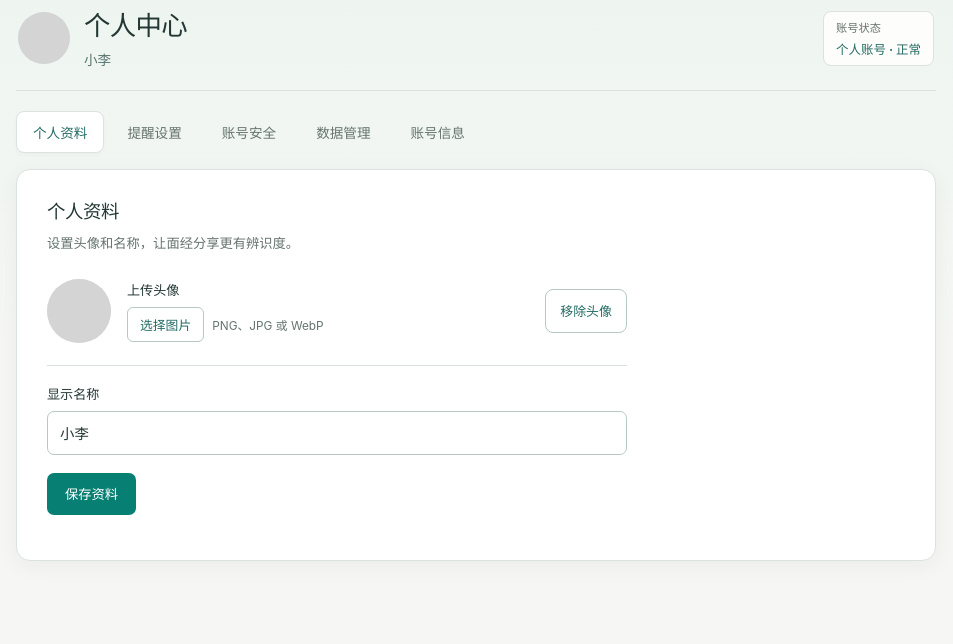
Test: removes an existing avatar while preserving the display name
Click the button "移除头像" at (586,311), box x1=545 y1=289 x2=627 y2=333
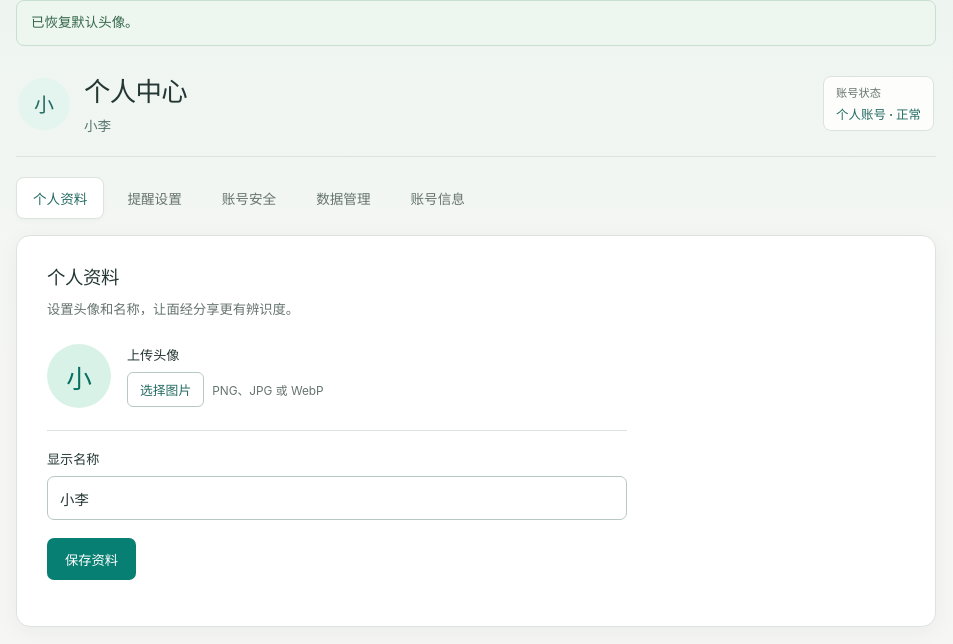
Check: the button "移除头像" is gone
